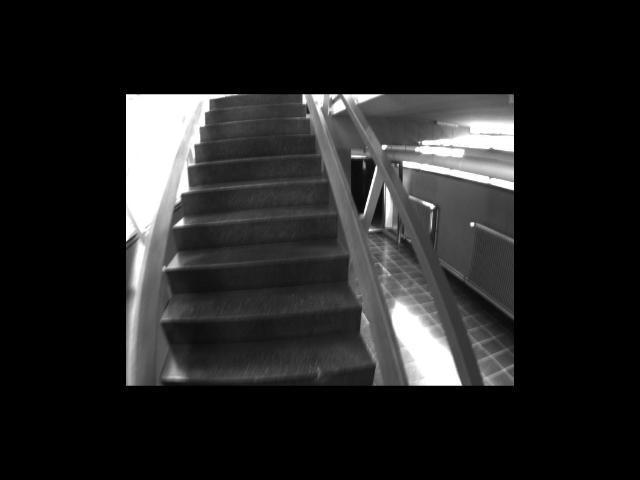Escaleras: (145, 94, 397, 380)
